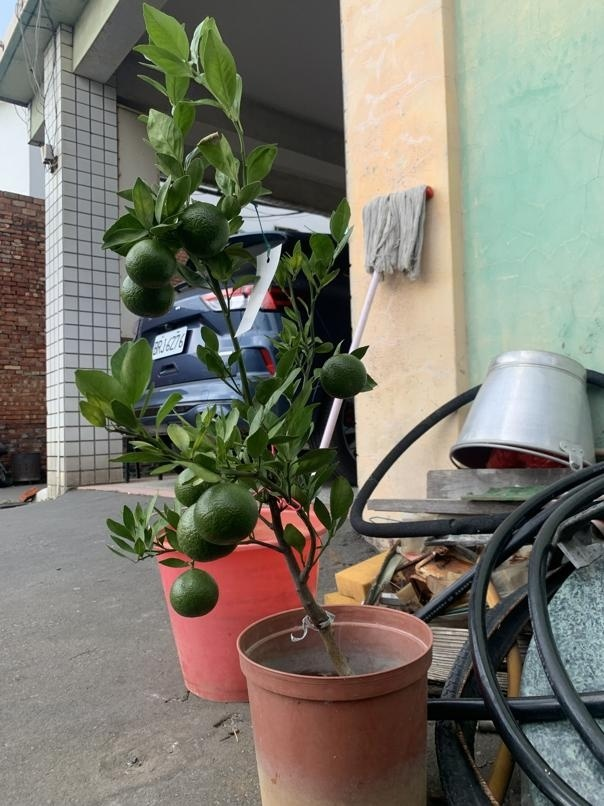Tangerine: (196, 476, 258, 545), (167, 563, 222, 619), (176, 202, 231, 257), (323, 347, 368, 404), (125, 240, 176, 289)
